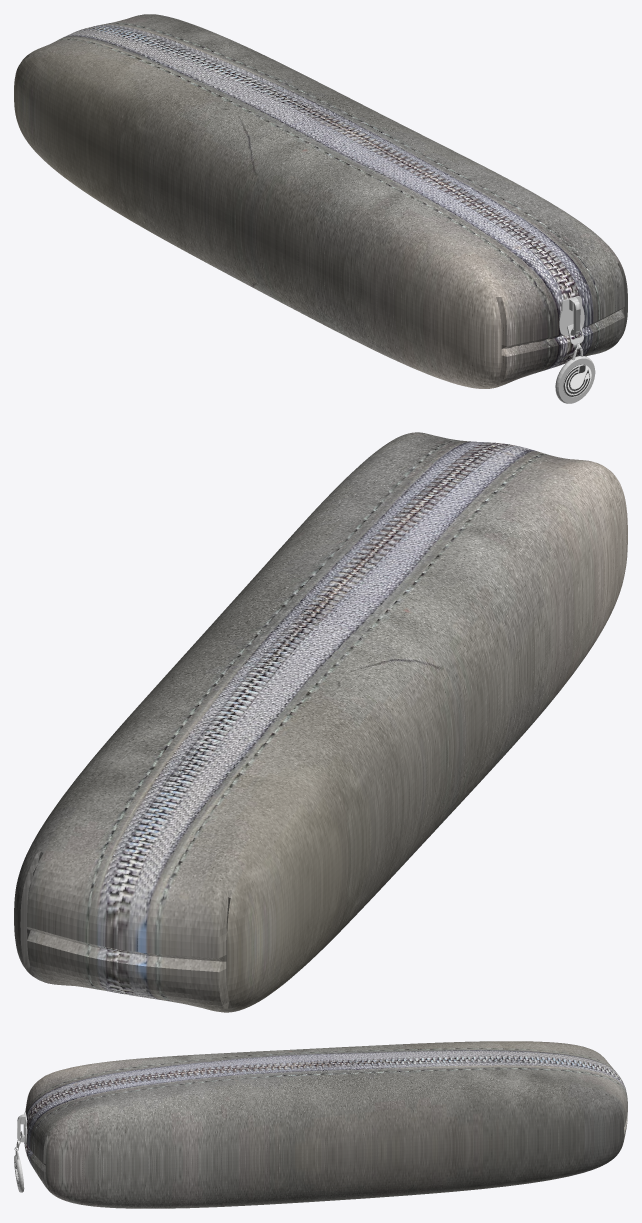
Rendered from pennskrin.gltf.
3 renders of one model, top to bottom at view 1: azimuth 30°, elevation 25°; view 2: azimuth 150°, elevation 25°; view 3: azimuth 270°, elevation 25°, orthographic. The views are drawn at different scales.
Parts seen in each view (by area): view 1: Cube.006; view 2: Cube.006; view 3: Cube.006.
Boxes of the visible parts, x1,y1,x2,y2 form: Cube.006: [14, 14, 627, 403]; Cube.006: [14, 432, 627, 1012]; Cube.006: [14, 1041, 627, 1208].
Bounding box in the file's own units: 0.4016 × 0.2388 × 1.13.
3 materials, 2 textured.
